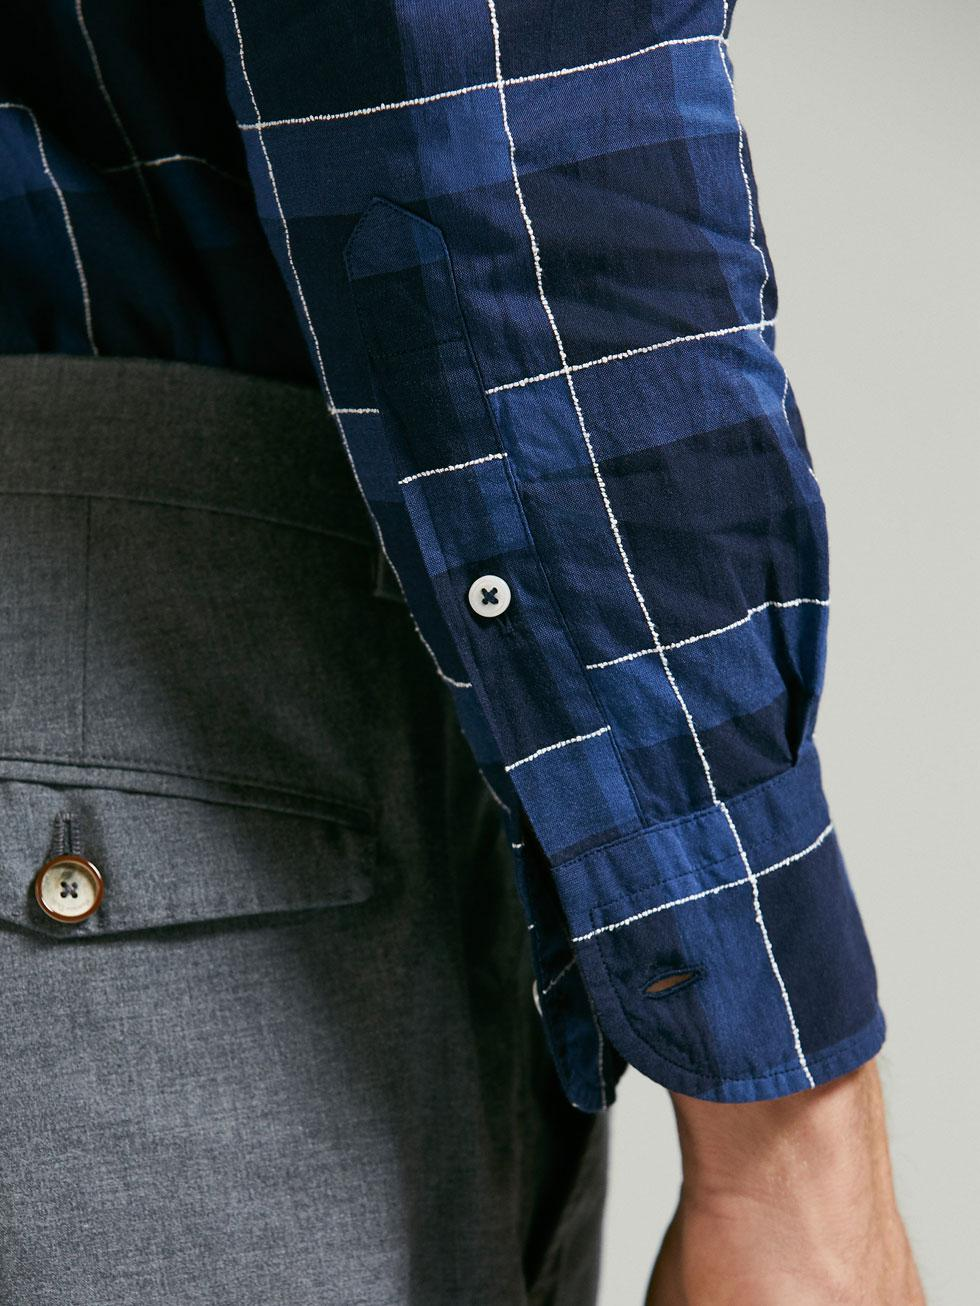teeshirt: (1, 3, 919, 1107)
